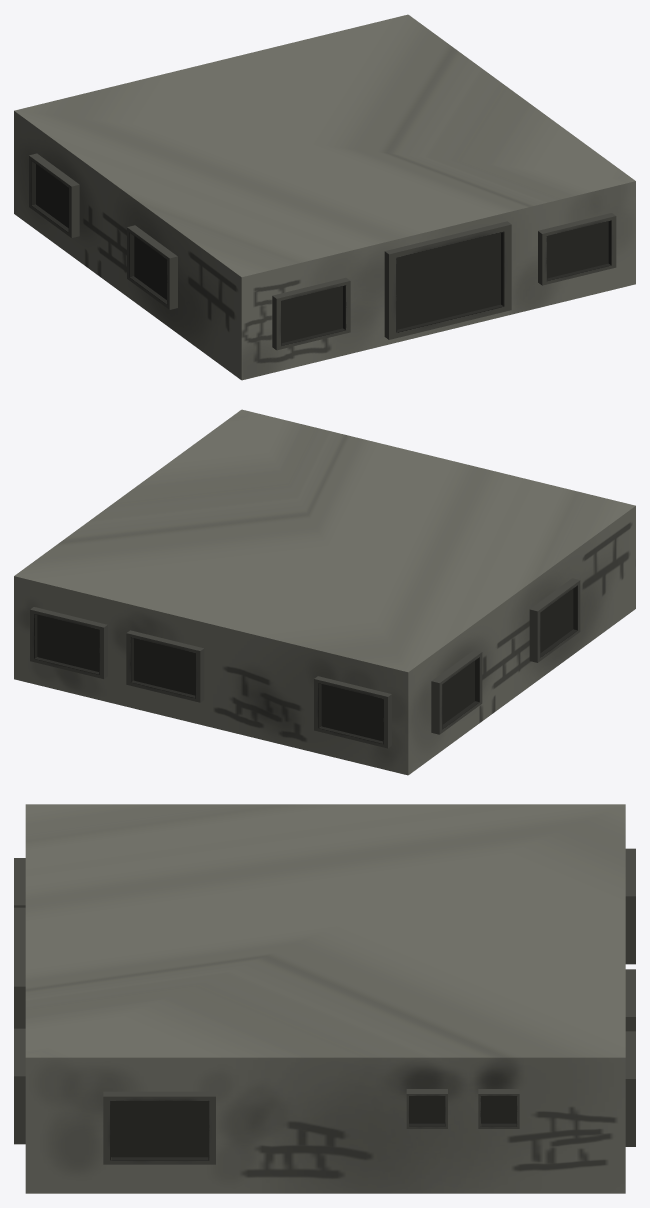
Rendered from floor.obj.
3 views of the same model, one above another, from view 1: azimuth 30°, elevation 25°; view 2: azimuth 150°, elevation 25°; view 3: azimuth 270°, elevation 25° (orthographic). The views are drawn at different scales.
Parts seen in each view (by area): view 1: Cube, Cube.007_Cube.008, Cube.008_Cube.009, Cube.006_Cube.007, Cube.005_Cube.006, Cube.004_Cube.005; view 2: Cube, Cube.002_Cube.003, Cube.001, Cube.003_Cube.004, Cube.005_Cube.006, Cube.004_Cube.005; view 3: Cube, Cube.009_Cube.010, Cube.010_Cube.011, Cube.011_Cube.012, Cube.007_Cube.008, Cube.008_Cube.009, Cube.003_Cube.004, Cube.001, Cube.002_Cube.003, Cube.006_Cube.007.
Part boxes in pixels (bbox=[...]): Cube: bbox=[14, 14, 635, 380]; Cube.007_Cube.008: bbox=[384, 221, 511, 339]; Cube.008_Cube.009: bbox=[538, 213, 616, 285]; Cube.006_Cube.007: bbox=[272, 277, 350, 350]; Cube.005_Cube.006: bbox=[29, 153, 79, 238]; Cube.004_Cube.005: bbox=[127, 225, 177, 309]; Cube: bbox=[14, 409, 635, 775]; Cube.002_Cube.003: bbox=[126, 630, 204, 702]; Cube.001: bbox=[30, 607, 107, 678]; Cube.003_Cube.004: bbox=[314, 676, 391, 748]; Cube.005_Cube.006: bbox=[431, 650, 482, 734]; Cube.004_Cube.005: bbox=[529, 578, 580, 662]; Cube: bbox=[25, 804, 625, 1193]; Cube.009_Cube.010: bbox=[103, 1091, 215, 1164]; Cube.010_Cube.011: bbox=[406, 1089, 447, 1128]; Cube.011_Cube.012: bbox=[478, 1089, 519, 1128]; Cube.007_Cube.008: bbox=[14, 907, 25, 1028]; Cube.008_Cube.009: bbox=[14, 1028, 25, 1144]; Cube.003_Cube.004: bbox=[625, 848, 635, 964]; Cube.001: bbox=[625, 1031, 635, 1146]; Cube.002_Cube.003: bbox=[625, 969, 635, 1031]; Cube.006_Cube.007: bbox=[14, 858, 25, 907].
Bounding box in the file's own units: 8.32 × 2 × 8.29.
Materials: 12 (12 with a texture image).
